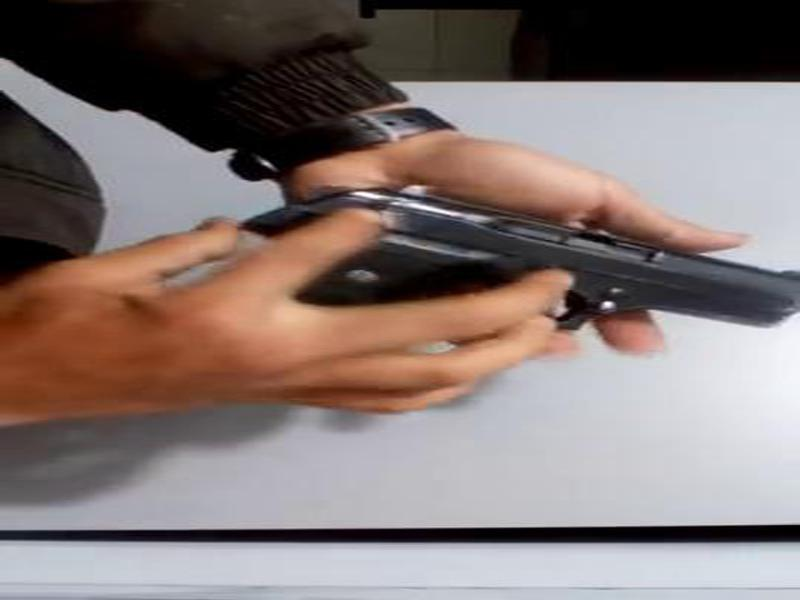Pistola: (236, 156, 800, 426)
